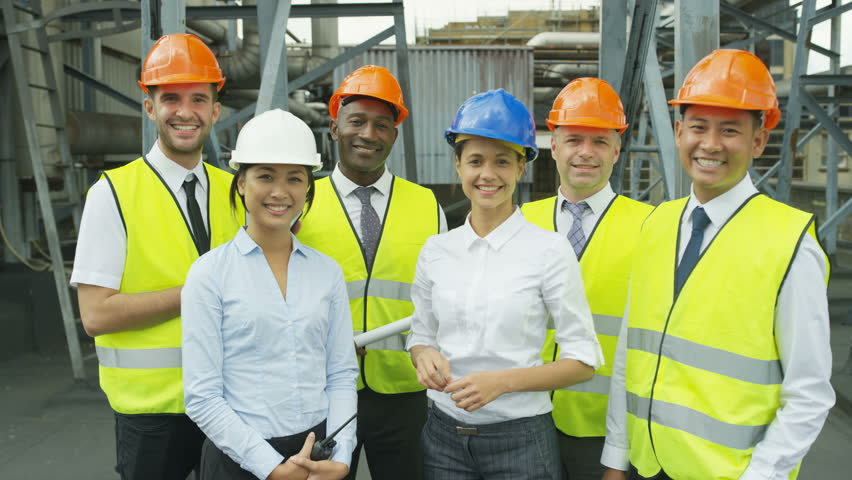Safety Helmet: (658, 41, 789, 213), (116, 14, 233, 169), (427, 76, 543, 220), (224, 98, 326, 250), (541, 63, 633, 210), (319, 48, 415, 183)
